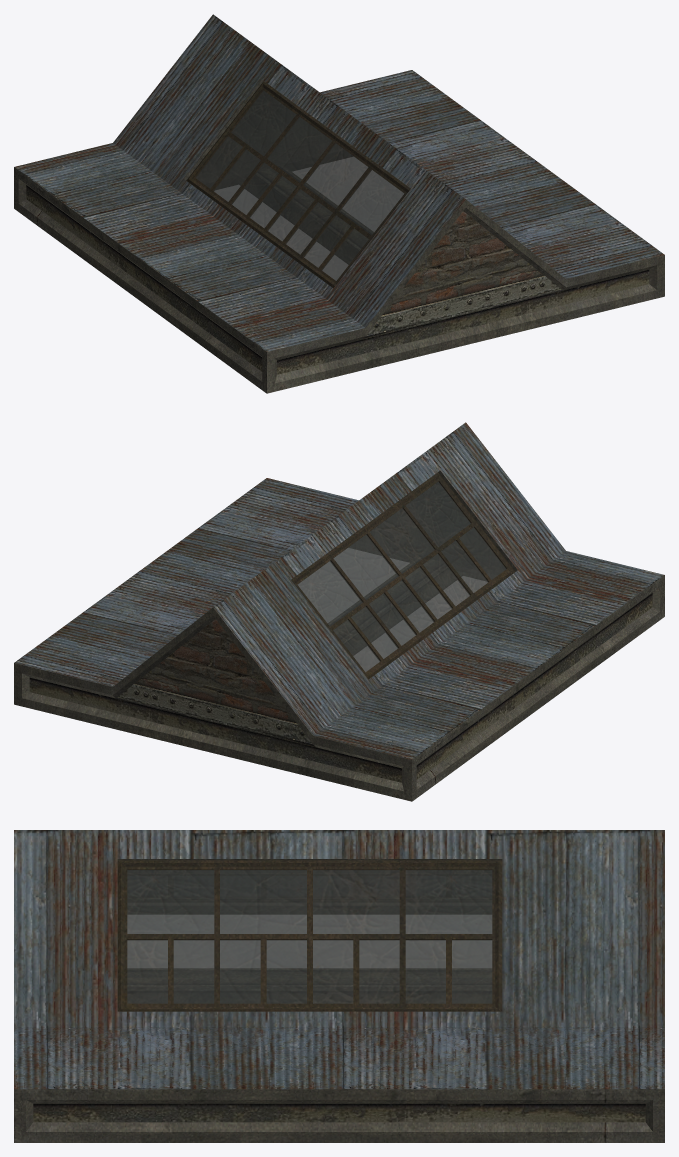
The model's file is roof_bx_1_side.obj.
3 renders of one model, top to bottom at view 1: azimuth 30°, elevation 25°; view 2: azimuth 150°, elevation 25°; view 3: azimuth 270°, elevation 25°, orthographic. The views are drawn at different scales.
Parts seen in each view (by area): view 1: roof_bx_1_side; view 2: roof_bx_1_side; view 3: roof_bx_1_side.
Part boxes in pixels (bbox=[...]): roof_bx_1_side: bbox=[14, 14, 664, 393]; roof_bx_1_side: bbox=[14, 422, 664, 801]; roof_bx_1_side: bbox=[14, 830, 664, 1142].
Size of the model in its own units: 4 by 1.4 by 4.4.
